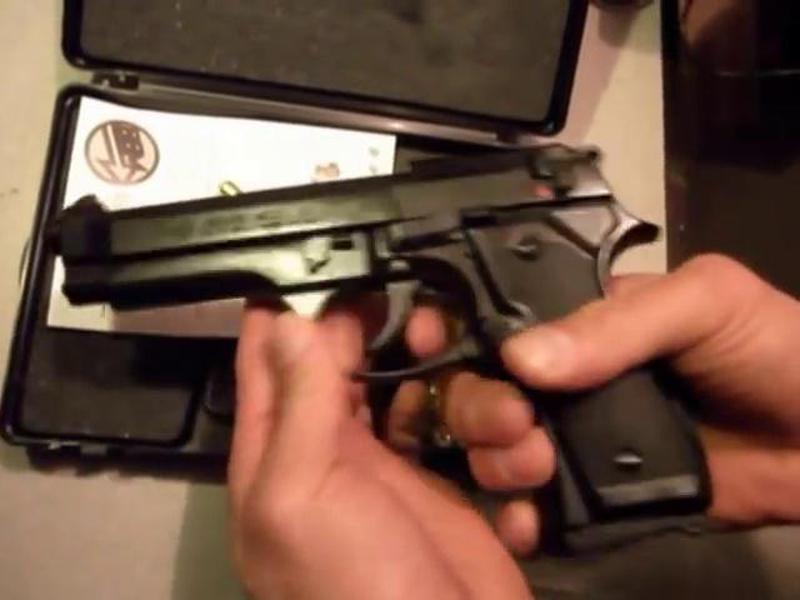Pistola: (58, 129, 763, 532)
